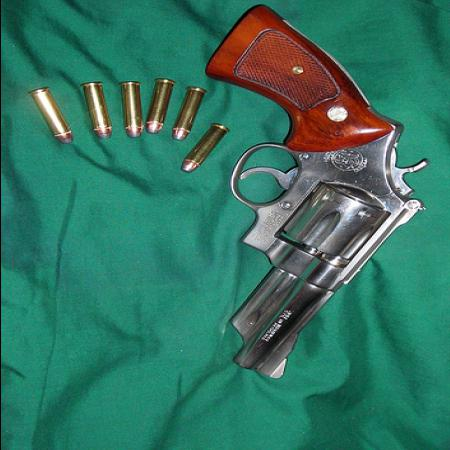Pistol: (210, 2, 430, 379)
